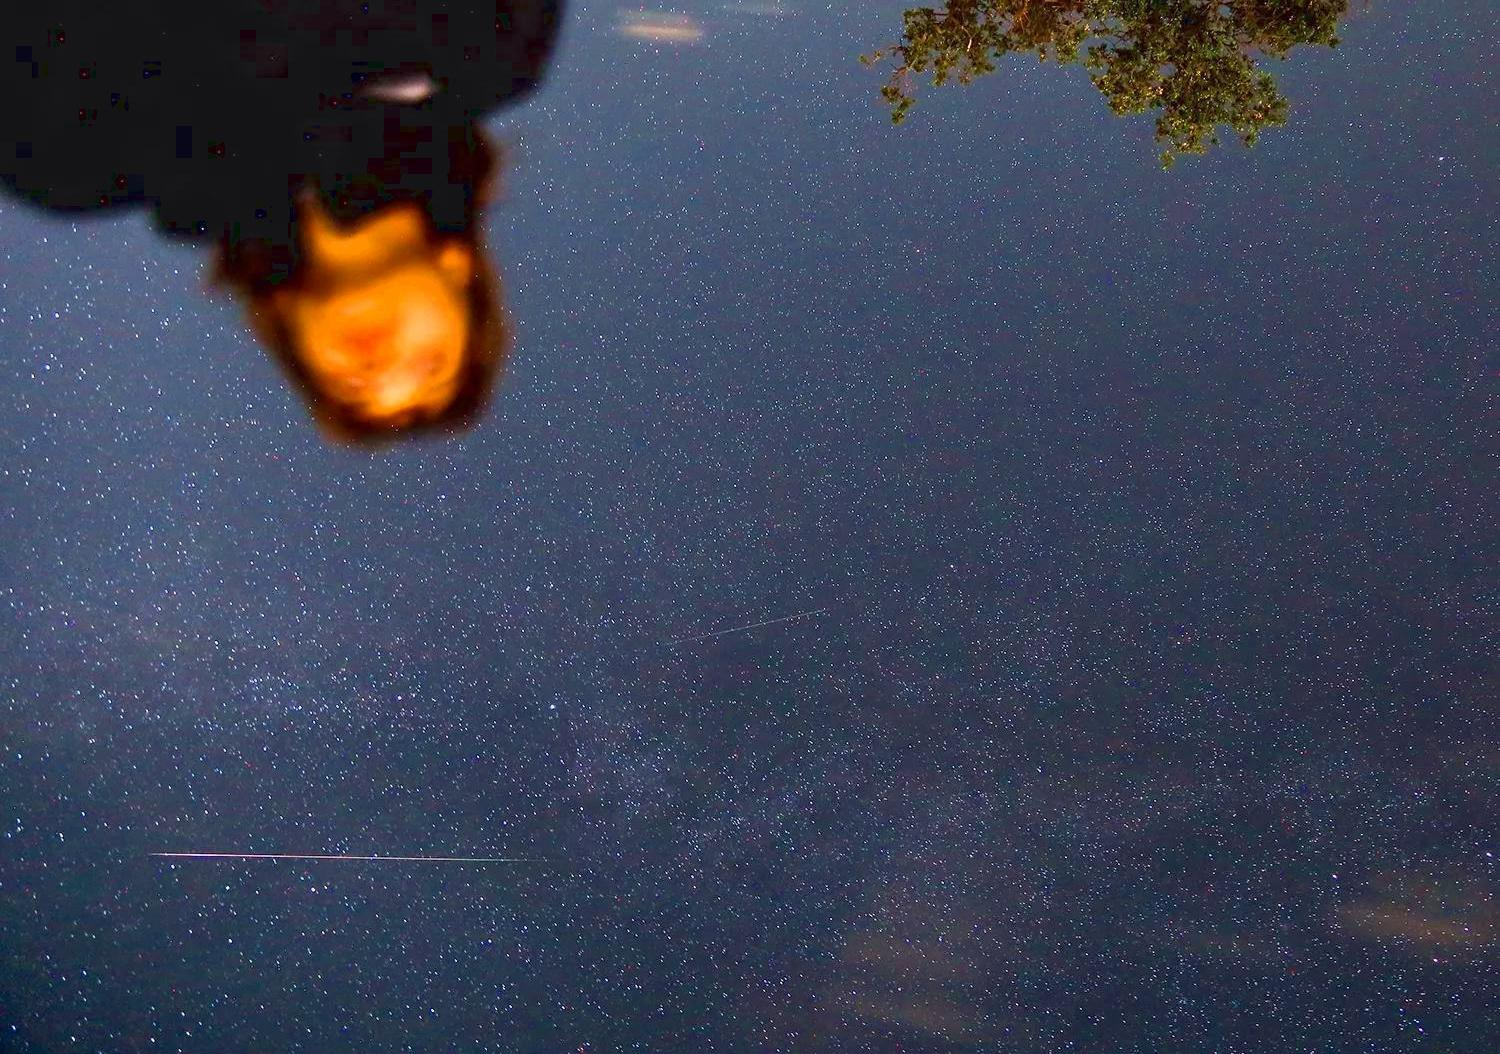meteorite: (136, 829, 553, 878), (637, 606, 843, 667)
